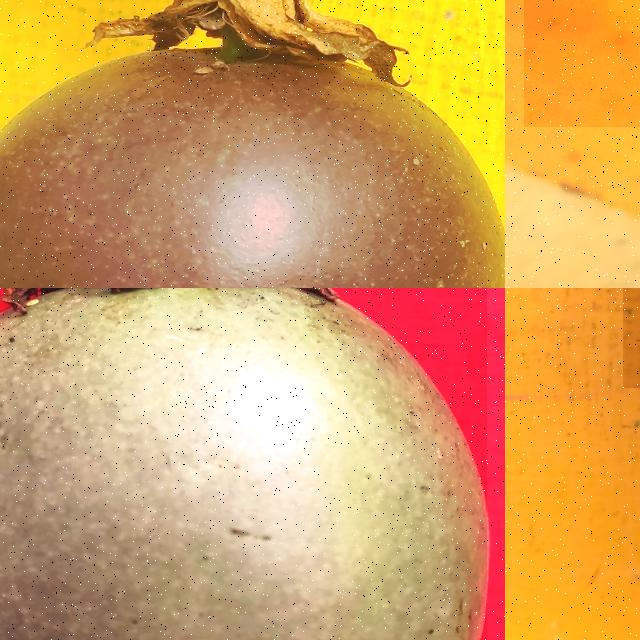Estado-1: (0, 288, 487, 640)
Estado-5: (0, 0, 505, 288)
